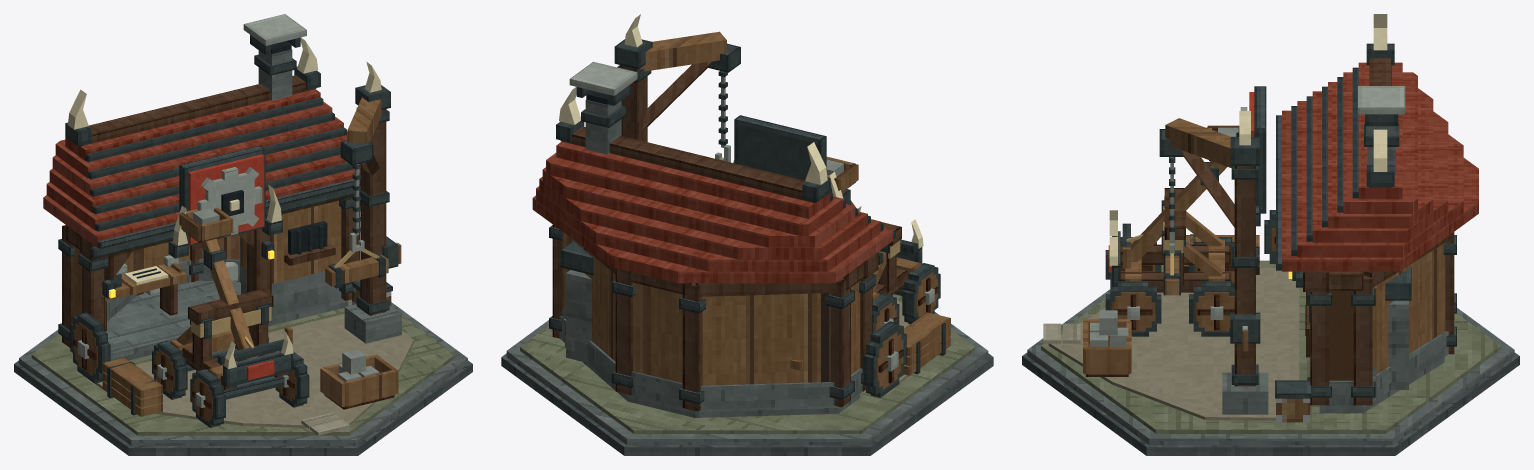
Rendered from orc_siege_arsenal_hex_v1.glb.
3 renders of one model, left to right at view 1: azimuth 30°, elevation 25°; view 2: azimuth 150°, elevation 25°; view 3: azimuth 270°, elevation 25°, orthographic. The views are drawn at different scales.
Visible parts, largest first — view 1: Orc_Siege_Arsenal_Hex_V1_Roofs, Orc_Siege_Arsenal_Hex_V1_Workshop, Orc_Siege_Arsenal_Hex_V1_Equipment, Orc_Siege_Arsenal_Hex_V1_Foundation, Orc_Siege_Arsenal_Hex_V1_Catapult, Orc_Siege_Arsenal_Hex_V1_Courtyard, Orc_Siege_Arsenal_Hex_V1_Details, Orc_Siege_Arsenal_Hex_V1_Faction; view 2: Orc_Siege_Arsenal_Hex_V1_Workshop, Orc_Siege_Arsenal_Hex_V1_Roofs, Orc_Siege_Arsenal_Hex_V1_Foundation, Orc_Siege_Arsenal_Hex_V1_Equipment, Orc_Siege_Arsenal_Hex_V1_Catapult, Orc_Siege_Arsenal_Hex_V1_Details; view 3: Orc_Siege_Arsenal_Hex_V1_Roofs, Orc_Siege_Arsenal_Hex_V1_Foundation, Orc_Siege_Arsenal_Hex_V1_Equipment, Orc_Siege_Arsenal_Hex_V1_Workshop, Orc_Siege_Arsenal_Hex_V1_Courtyard, Orc_Siege_Arsenal_Hex_V1_Catapult, Orc_Siege_Arsenal_Hex_V1_Details.
Boxes of the visible parts, x1,y1,x2,y2 form: Orc_Siege_Arsenal_Hex_V1_Roofs: (43, 14, 360, 248); Orc_Siege_Arsenal_Hex_V1_Workshop: (58, 35, 360, 360); Orc_Siege_Arsenal_Hex_V1_Equipment: (70, 62, 401, 416); Orc_Siege_Arsenal_Hex_V1_Foundation: (14, 299, 472, 455); Orc_Siege_Arsenal_Hex_V1_Catapult: (152, 208, 309, 427); Orc_Siege_Arsenal_Hex_V1_Courtyard: (91, 314, 413, 435); Orc_Siege_Arsenal_Hex_V1_Details: (102, 41, 392, 305); Orc_Siege_Arsenal_Hex_V1_Faction: (188, 154, 274, 380); Orc_Siege_Arsenal_Hex_V1_Workshop: (549, 84, 883, 417); Orc_Siege_Arsenal_Hex_V1_Roofs: (532, 61, 895, 283); Orc_Siege_Arsenal_Hex_V1_Foundation: (501, 294, 993, 455); Orc_Siege_Arsenal_Hex_V1_Equipment: (560, 14, 950, 397); Orc_Siege_Arsenal_Hex_V1_Catapult: (826, 156, 940, 332); Orc_Siege_Arsenal_Hex_V1_Details: (586, 90, 843, 200); Orc_Siege_Arsenal_Hex_V1_Roofs: (1276, 14, 1478, 271); Orc_Siege_Arsenal_Hex_V1_Foundation: (1022, 260, 1519, 455); Orc_Siege_Arsenal_Hex_V1_Equipment: (1083, 111, 1411, 414); Orc_Siege_Arsenal_Hex_V1_Workshop: (1296, 114, 1456, 413); Orc_Siege_Arsenal_Hex_V1_Courtyard: (1043, 268, 1299, 420); Orc_Siege_Arsenal_Hex_V1_Catapult: (1105, 125, 1239, 336); Orc_Siege_Arsenal_Hex_V1_Details: (1236, 86, 1311, 422).
Bounding box in the file's own units: 1.59 × 1.28 × 1.84.
1 material, 1 textured.
